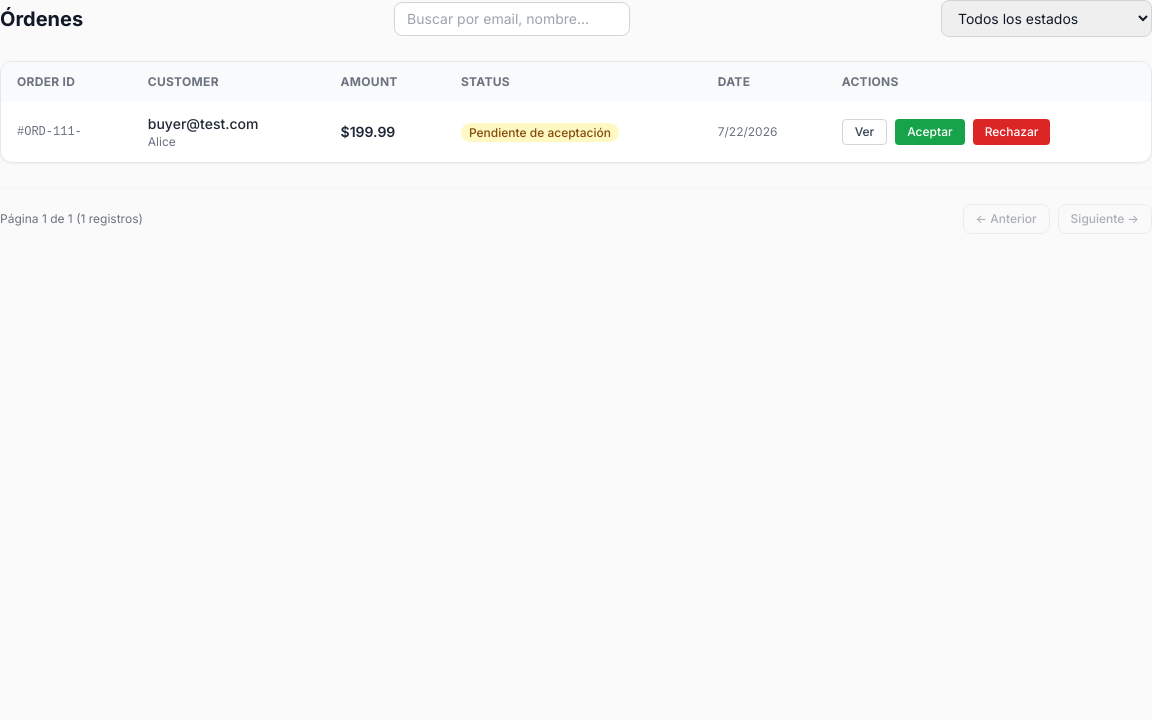
Test: OrdersPage › opens accept modal on Aceptar click
Click the button with aria-label "accept order" at {"x": 930, "y": 132}, box [895,119,965,145]
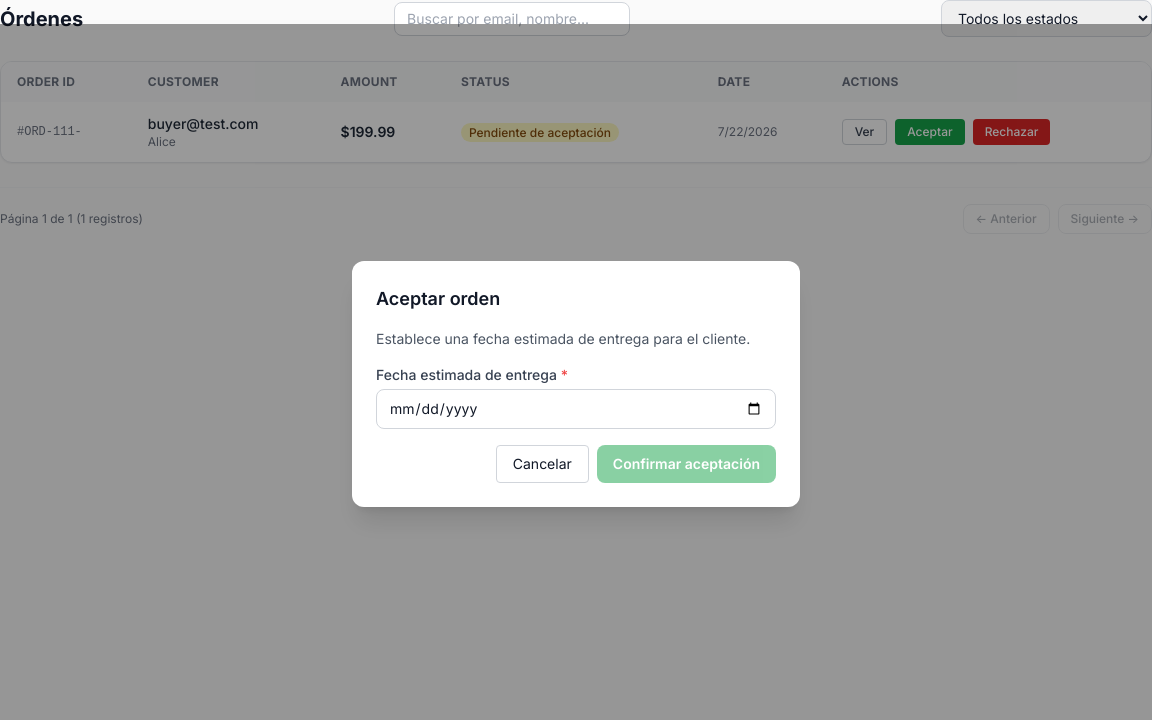
Now the dialog "Aceptar orden" is shown, box [352,261,800,507]
